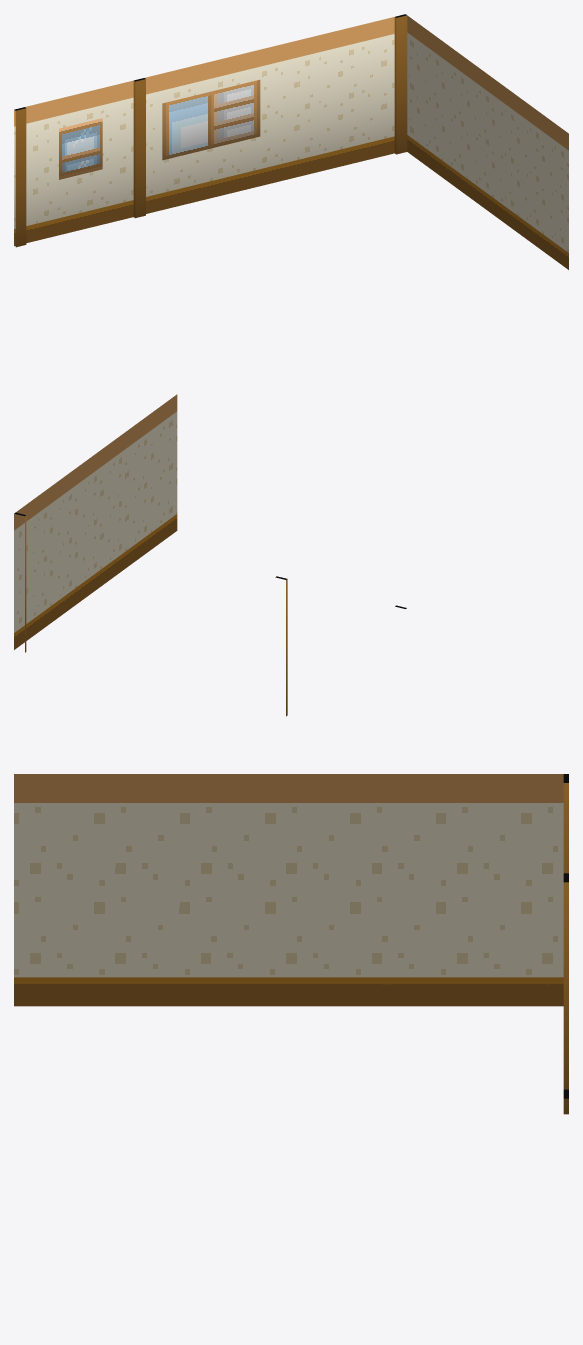
Rendered from hgss-maison-sud-ouest-architecture.glb.
3 renders of one model, top to bottom at view 1: azimuth 30°, elevation 25°; view 2: azimuth 150°, elevation 25°; view 3: azimuth 270°, elevation 25°, orthographic. The views are drawn at different scales.
Visible parts, largest first — view 1: m_h01_00_00c; view 2: m_h01_00_00c; view 3: m_h01_00_00c.
Part boxes in pixels (x1,y1,x2,y2): m_h01_00_00c: (14, 14, 568, 269); m_h01_00_00c: (14, 394, 406, 716); m_h01_00_00c: (14, 774, 568, 1114).
Bounding box in the file's own units: 9 × 3 × 6.5.
Materials: 5 (5 with a texture image).
